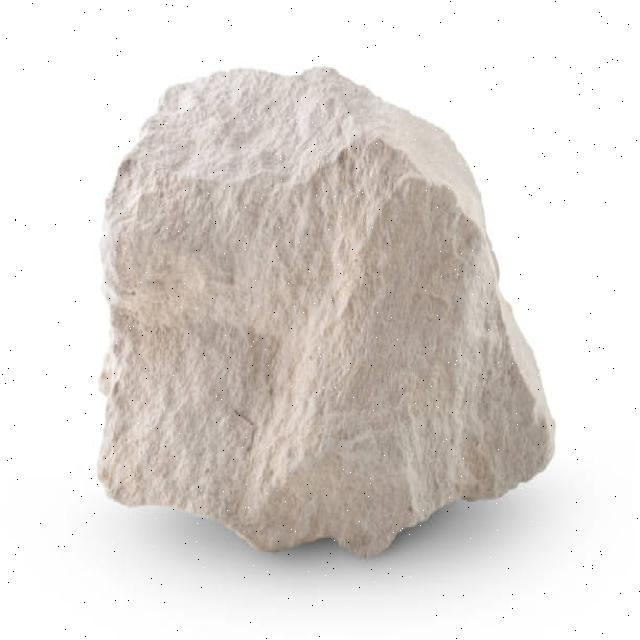Metamorphic: (95, 59, 558, 557)
